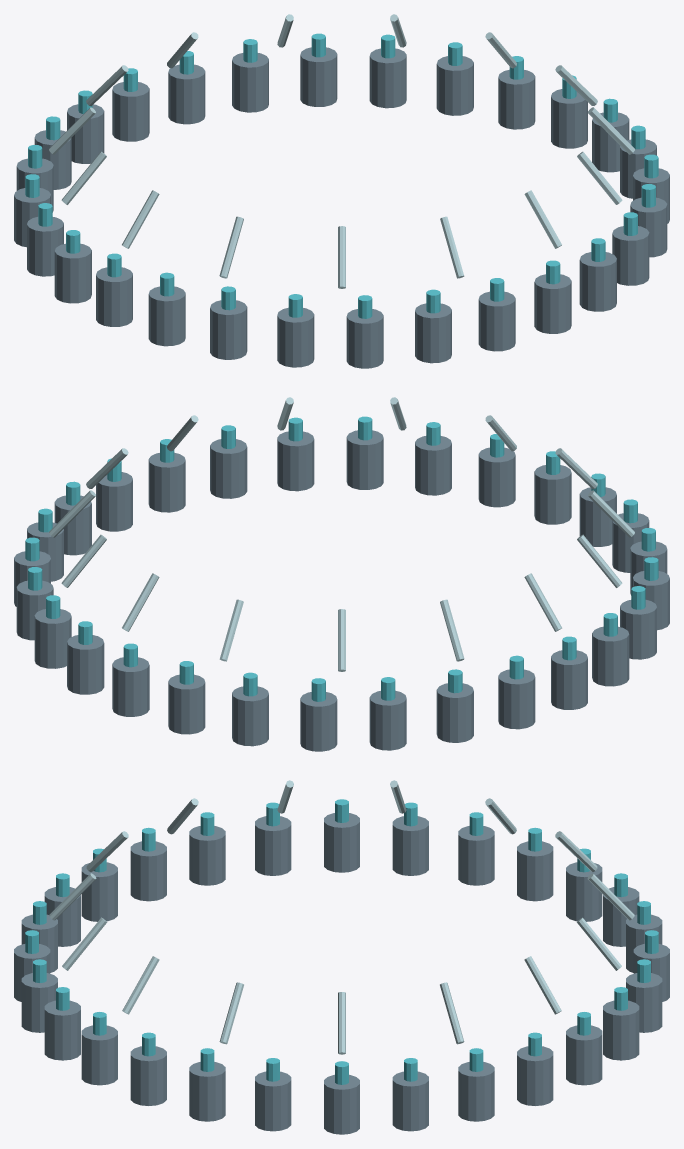
Rendered from 20_L76_MultiZoneElectrolyteNozzleArray.glb.
The picture shows the model from 3 angles, top to bottom: view 1: azimuth 30°, elevation 25°; view 2: azimuth 150°, elevation 25°; view 3: azimuth 270°, elevation 25°; orthographic projection.
Visible parts, largest first — view 1: MultiZoneElectrolyteNozzleArray_Node_0014, MultiZoneElectrolyteNozzleArray_Node_0010, MultiZoneElectrolyteNozzleArray_Node_0052, MultiZoneElectrolyteNozzleArray_Node_0018, MultiZoneElectrolyteNozzleArray_Node_0020, MultiZoneElectrolyteNozzleArray_Node_0028, MultiZoneElectrolyteNozzleArray_Node_0048, MultiZoneElectrolyteNozzleArray_Node_0024, MultiZoneElectrolyteNozzleArray_Node_0042, MultiZoneElectrolyteNozzleArray_Node_0012, MultiZoneElectrolyteNozzleArray_Node_0022, MultiZoneElectrolyteNozzleArray_Node_0040 (+22 smaller); view 2: MultiZoneElectrolyteNozzleArray_Node_0042, MultiZoneElectrolyteNozzleArray_Node_0004, MultiZoneElectrolyteNozzleArray_Node_0046, MultiZoneElectrolyteNozzleArray_Node_0008, MultiZoneElectrolyteNozzleArray_Node_0028, MultiZoneElectrolyteNozzleArray_Node_0036, MultiZoneElectrolyteNozzleArray_Node_0038, MultiZoneElectrolyteNozzleArray_Node_0032, MultiZoneElectrolyteNozzleArray_Node_0014, MultiZoneElectrolyteNozzleArray_Node_0006, MultiZoneElectrolyteNozzleArray_Node_0016, MultiZoneElectrolyteNozzleArray_Node_0034 (+22 smaller); view 3: MultiZoneElectrolyteNozzleArray_Node_0002, MultiZoneElectrolyteNozzleArray_Node_0054, MultiZoneElectrolyteNozzleArray_Node_0008, MultiZoneElectrolyteNozzleArray_Node_0048, MultiZoneElectrolyteNozzleArray_Node_0010, MultiZoneElectrolyteNozzleArray_Node_0022, MultiZoneElectrolyteNozzleArray_Node_0034, MultiZoneElectrolyteNozzleArray_Node_0046, MultiZoneElectrolyteNozzleArray_Node_0026, MultiZoneElectrolyteNozzleArray_Node_0030, MultiZoneElectrolyteNozzleArray_Node_0004, MultiZoneElectrolyteNozzleArray_Node_0006 (+20 smaller).
Boxes of the visible parts, x1=… form: MultiZoneElectrolyteNozzleArray_Node_0014: x1=478, y1=291, x2=515, y2=351; MultiZoneElectrolyteNozzleArray_Node_0010: x1=579, y1=252, x2=616, y2=311; MultiZoneElectrolyteNozzleArray_Node_0052: x1=498, y1=69, x2=535, y2=129; MultiZoneElectrolyteNozzleArray_Node_0018: x1=346, y1=309, x2=383, y2=368; MultiZoneElectrolyteNozzleArray_Node_0020: x1=277, y1=307, x2=314, y2=367; MultiZoneElectrolyteNozzleArray_Node_0028: x1=54, y1=243, x2=91, y2=303; MultiZoneElectrolyteNozzleArray_Node_0048: x1=369, y1=48, x2=406, y2=108; MultiZoneElectrolyteNozzleArray_Node_0024: x1=148, y1=286, x2=185, y2=346; MultiZoneElectrolyteNozzleArray_Node_0042: x1=168, y1=64, x2=205, y2=124; MultiZoneElectrolyteNozzleArray_Node_0012: x1=534, y1=274, x2=571, y2=333; MultiZoneElectrolyteNozzleArray_Node_0022: x1=210, y1=300, x2=247, y2=359; MultiZoneElectrolyteNozzleArray_Node_0040: x1=112, y1=82, x2=149, y2=141; MultiZoneElectrolyteNozzleArray_Node_0042: x1=168, y1=674, x2=205, y2=734; MultiZoneElectrolyteNozzleArray_Node_0004: x1=148, y1=452, x2=185, y2=512; MultiZoneElectrolyteNozzleArray_Node_0046: x1=67, y1=635, x2=104, y2=694; MultiZoneElectrolyteNozzleArray_Node_0008: x1=277, y1=431, x2=314, y2=491; MultiZoneElectrolyteNozzleArray_Node_0028: x1=592, y1=626, x2=629, y2=686; MultiZoneElectrolyteNozzleArray_Node_0036: x1=369, y1=690, x2=406, y2=750; MultiZoneElectrolyteNozzleArray_Node_0038: x1=300, y1=692, x2=337, y2=751; MultiZoneElectrolyteNozzleArray_Node_0032: x1=498, y1=669, x2=535, y2=729; MultiZoneElectrolyteNozzleArray_Node_0014: x1=478, y1=447, x2=515, y2=507; MultiZoneElectrolyteNozzleArray_Node_0006: x1=210, y1=439, x2=247, y2=498; MultiZoneElectrolyteNozzleArray_Node_0016: x1=534, y1=465, x2=571, y2=524; MultiZoneElectrolyteNozzleArray_Node_0034: x1=436, y1=683, x2=473, y2=742; MultiZoneElectrolyteNozzleArray_Node_0002: x1=255, y1=1071, x2=291, y2=1131; MultiZoneElectrolyteNozzleArray_Node_0054: x1=392, y1=1071, x2=428, y2=1131; MultiZoneElectrolyteNozzleArray_Node_0008: x1=81, y1=1025, x2=117, y2=1085; MultiZoneElectrolyteNozzleArray_Node_0048: x1=566, y1=1025, x2=602, y2=1085; MultiZoneElectrolyteNozzleArray_Node_0010: x1=44, y1=1000, x2=80, y2=1060; MultiZoneElectrolyteNozzleArray_Node_0022: x1=130, y1=841, x2=166, y2=901; MultiZoneElectrolyteNozzleArray_Node_0034: x1=517, y1=841, x2=553, y2=901; MultiZoneElectrolyteNozzleArray_Node_0046: x1=603, y1=1000, x2=639, y2=1060; MultiZoneElectrolyteNozzleArray_Node_0026: x1=255, y1=816, x2=291, y2=875; MultiZoneElectrolyteNozzleArray_Node_0030: x1=392, y1=816, x2=428, y2=875; MultiZoneElectrolyteNozzleArray_Node_0004: x1=189, y1=1062, x2=225, y2=1121; MultiZoneElectrolyteNozzleArray_Node_0006: x1=130, y1=1046, x2=166, y2=1105.
Bounding box in the file's own units: 3.18 × 0.5931 × 3.18.
